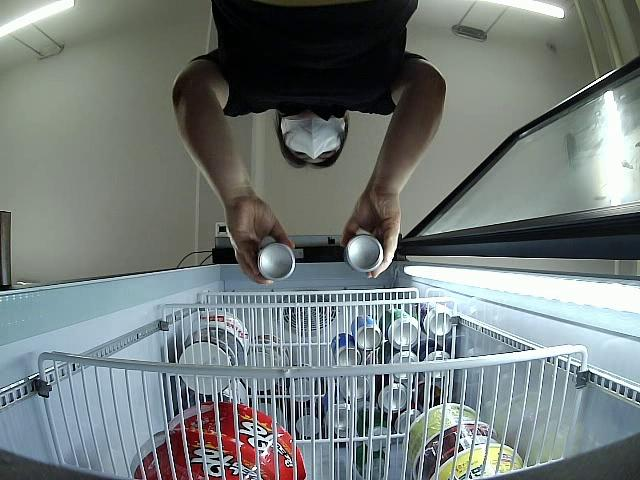00_hand: (227, 199, 298, 287), (343, 193, 401, 276)
